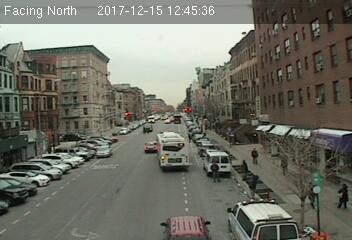bus: (156, 131, 191, 173)
car: (95, 145, 111, 158), (143, 140, 158, 153)
pedestrian: (335, 182, 350, 210), (247, 173, 259, 201), (210, 159, 221, 184), (239, 159, 249, 182), (281, 155, 289, 180), (250, 147, 259, 165)
police: (225, 199, 299, 240)
truck: (204, 151, 233, 176)
